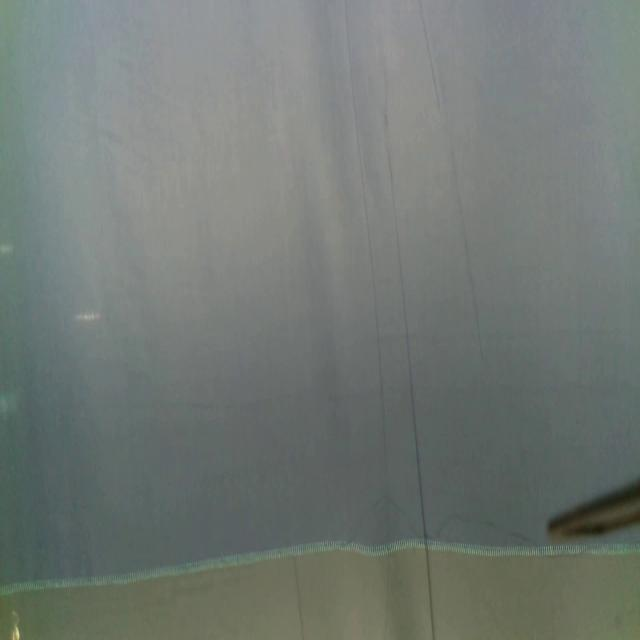crease: (419, 1, 486, 360), (389, 157, 436, 640), (342, 0, 389, 481), (292, 550, 305, 640)
